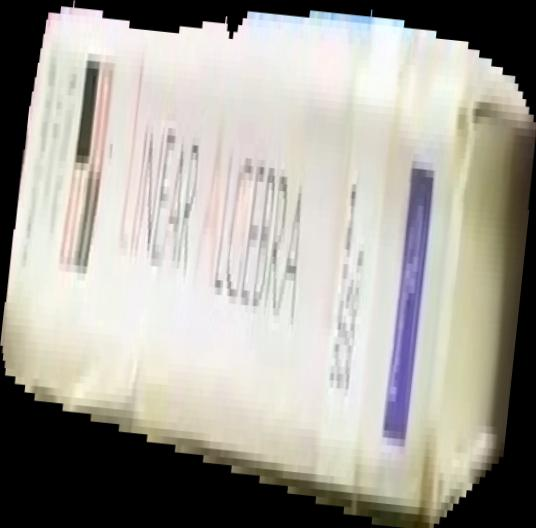flat: (1, 1, 536, 528)
